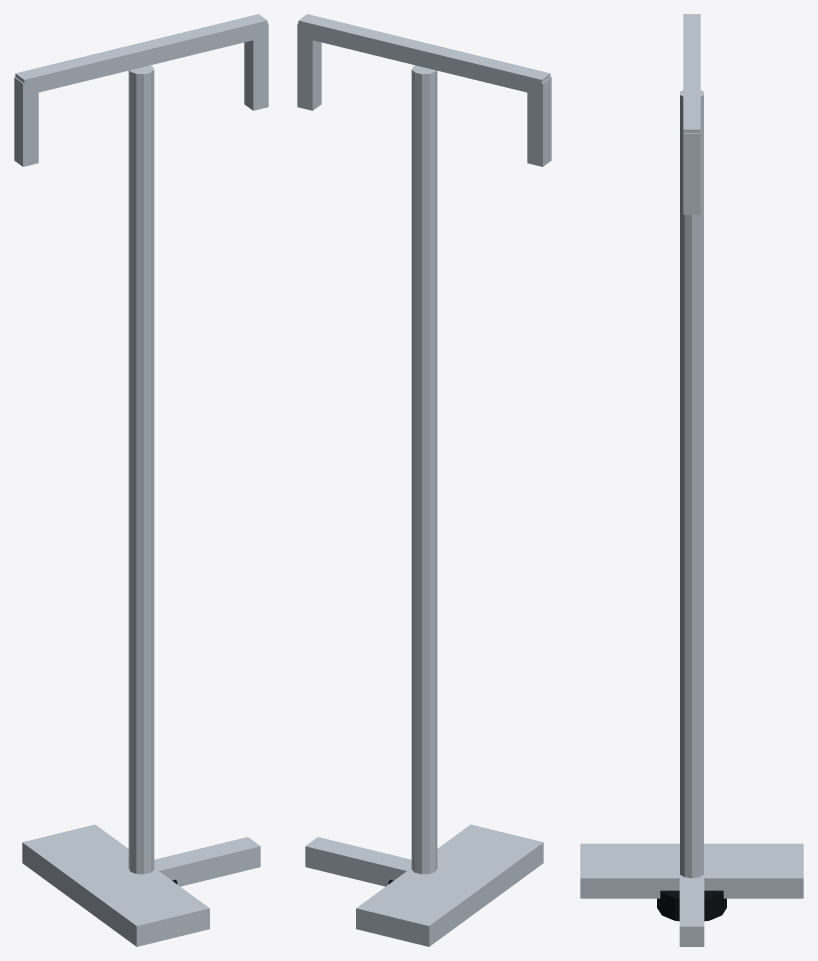
File: iv_stand_proxy.obj
3 views of the same model, side by side, from view 1: azimuth 30°, elevation 25°; view 2: azimuth 150°, elevation 25°; view 3: azimuth 270°, elevation 25° (orthographic). The views are drawn at different scales.
Parts seen in each view (by area): view 1: iv_stand_proxy; view 2: iv_stand_proxy; view 3: iv_stand_proxy.
Boxes of the visible parts, x1,y1,x2,y2 form: iv_stand_proxy: (14, 14, 268, 946); iv_stand_proxy: (297, 14, 551, 946); iv_stand_proxy: (580, 14, 803, 946).
Bounding box in the file's own units: 0.555 × 1.85 × 0.4484.
